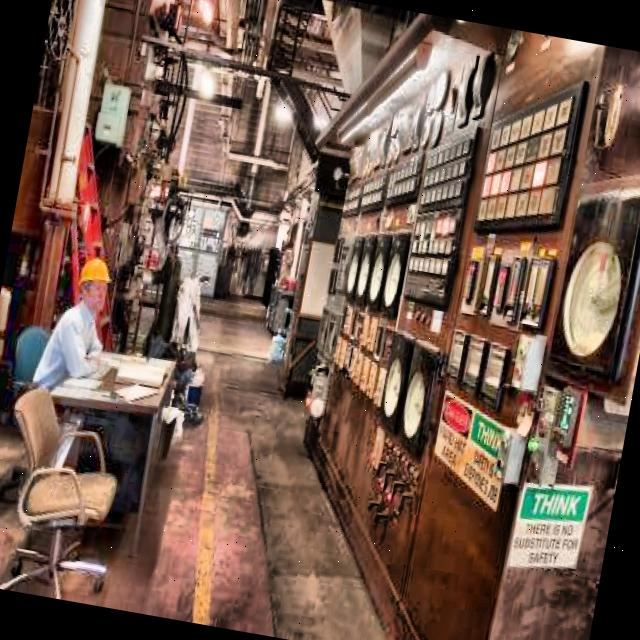helmet: (71, 250, 117, 320)
